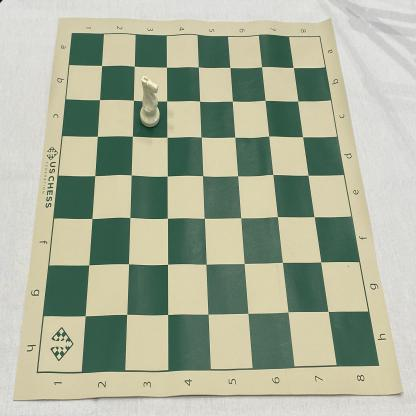white-knight: (139, 75, 161, 128)
